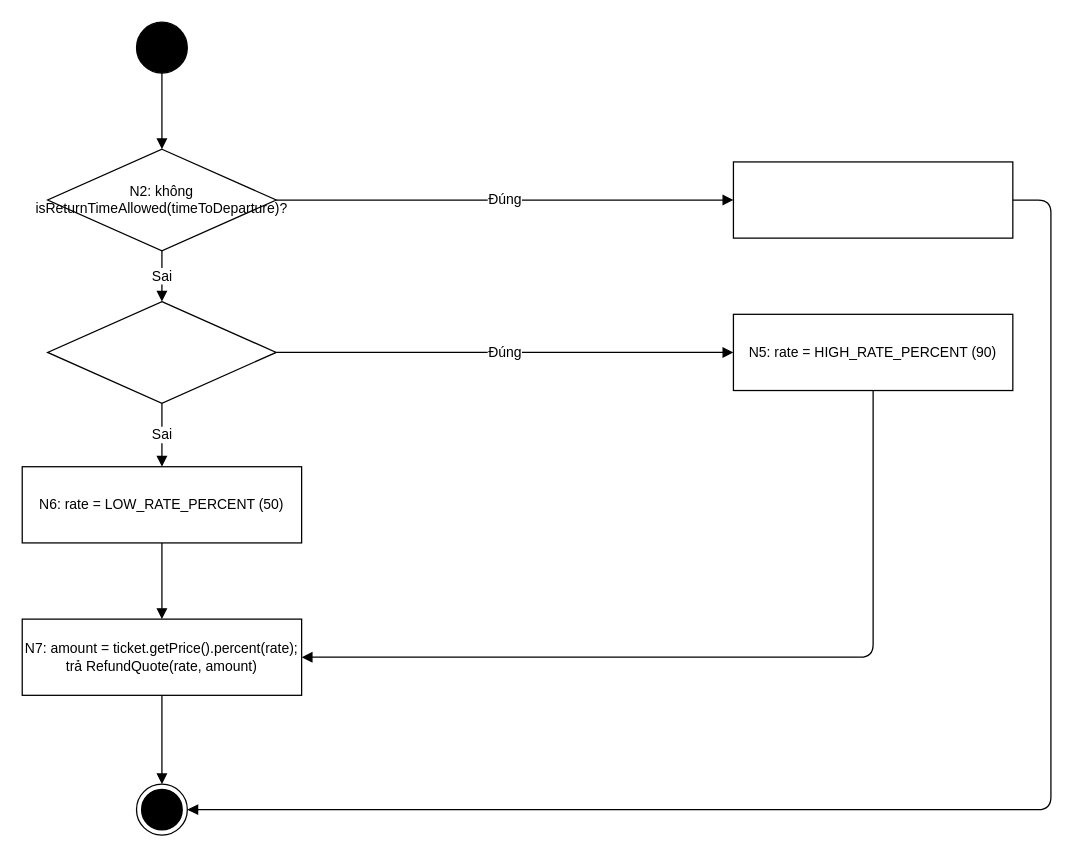
This 1083x857 diagram has some shape labels left out. Each missing label, with the box of its shape:
N3: ném IllegalArgumentException: (732, 161, 1013, 238)
N4: timeToDeparture >= FULL_RATE_TIME?: (46, 300, 276, 403)
